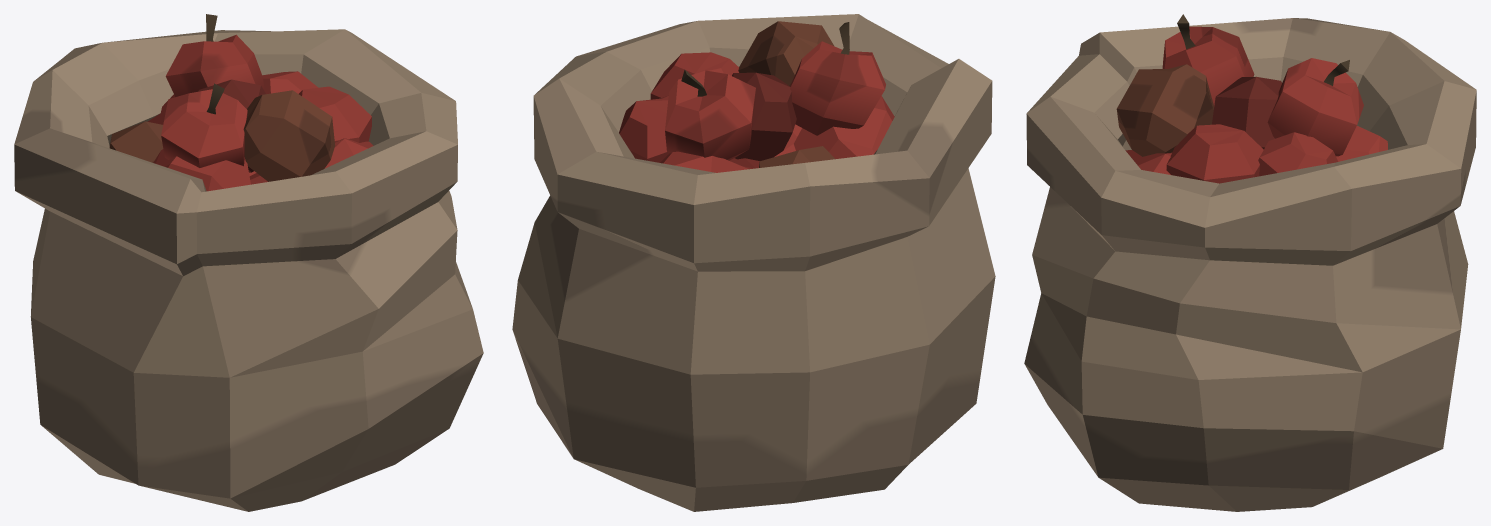
Rendered from crypt_sack.gltf.
The picture shows the model from 3 angles, left to right: view 1: azimuth 30°, elevation 25°; view 2: azimuth 150°, elevation 25°; view 3: azimuth 270°, elevation 25°; orthographic projection. The views are drawn at different scales.
Parts seen in each view (by area): view 1: crypt_sack; view 2: crypt_sack; view 3: crypt_sack.
Part boxes in pixels (bbox=[...]): crypt_sack: bbox=[14, 14, 483, 511]; crypt_sack: bbox=[512, 14, 995, 511]; crypt_sack: bbox=[1024, 14, 1476, 511].
Bounding box in the file's own units: 0.5633 × 0.5597 × 0.5552.
Materials: 1 (1 with a texture image).
